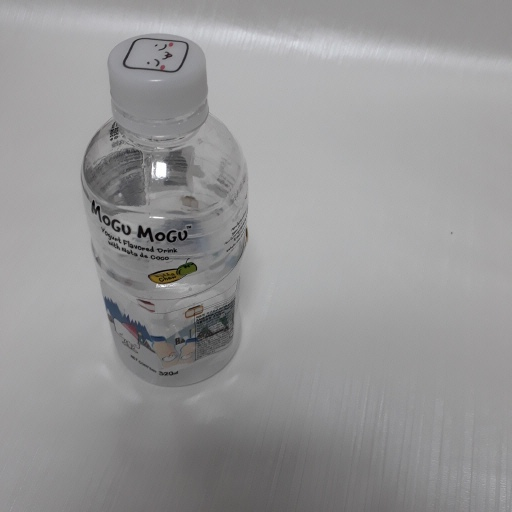Plastic_0: (81, 28, 250, 392)
